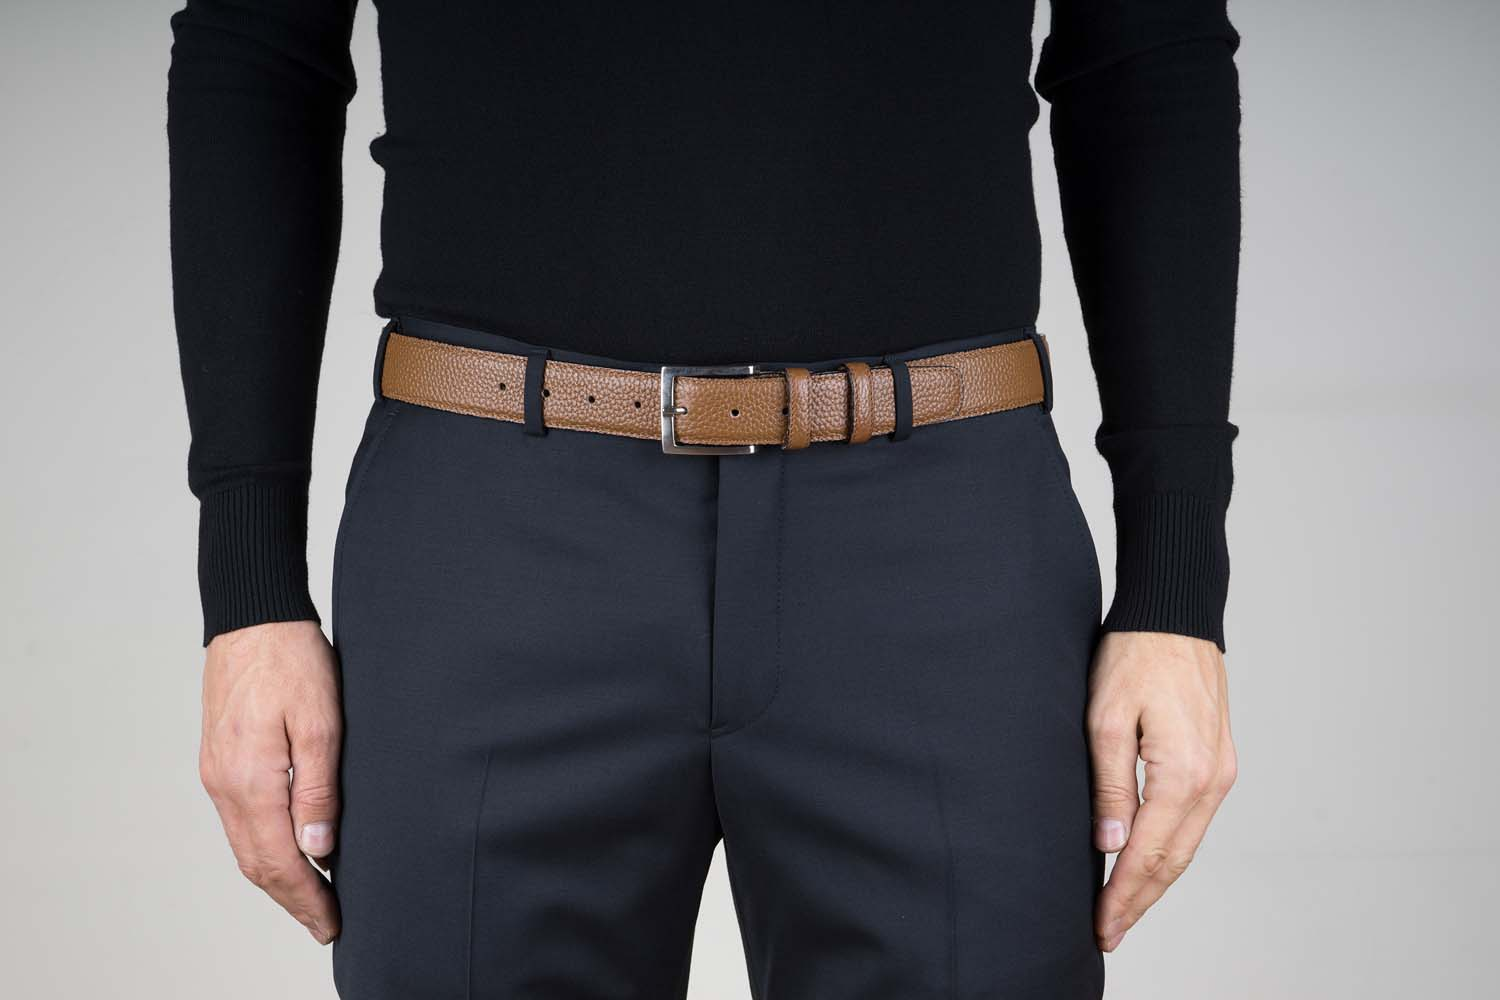F_belt: (358, 316, 1064, 464)
F_dress pants: (328, 340, 1114, 1000)
